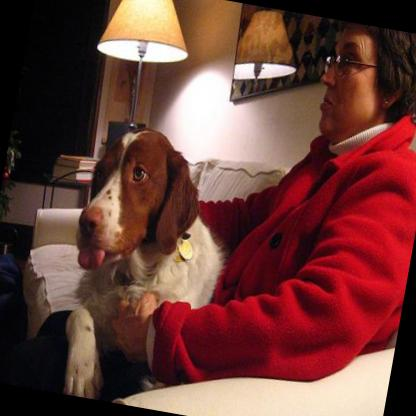Brittany_spaniel: (29, 109, 252, 415)
